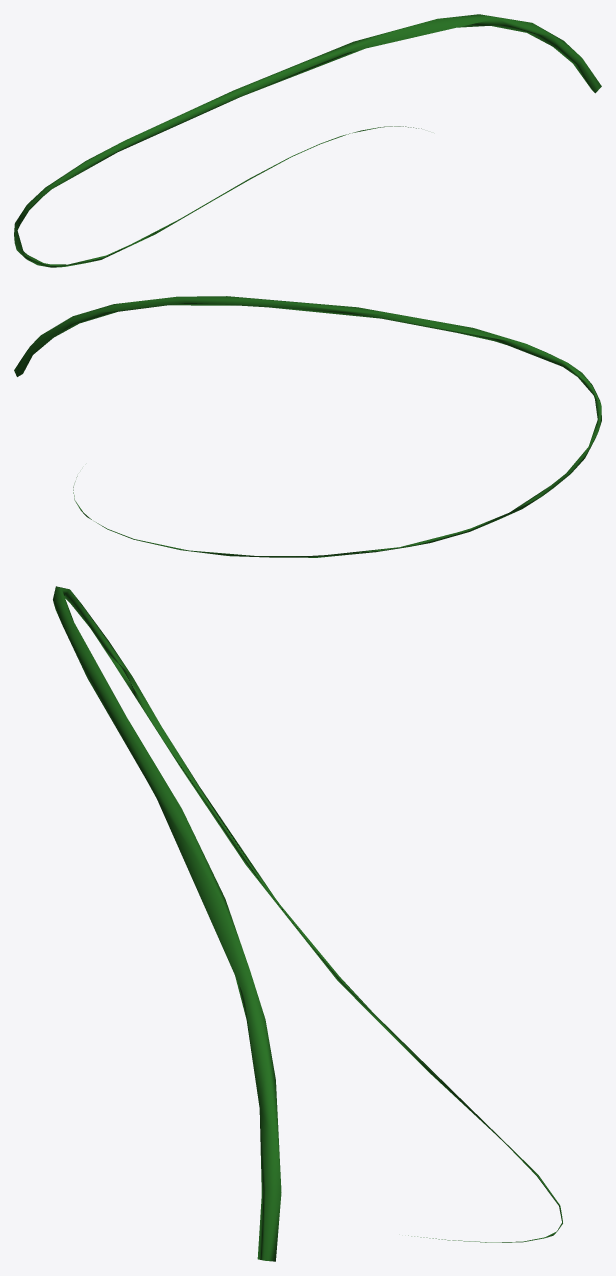
The model's file is Vines05.fbx.
3 views of the same model, one above another, from view 1: azimuth 30°, elevation 25°; view 2: azimuth 150°, elevation 25°; view 3: azimuth 270°, elevation 25° (orthographic). The views are drawn at different scales.
Parts seen in each view (by area): view 1: Vine.003; view 2: Vine.003; view 3: Vine.003.
Boxes of the visible parts, x1,y1,x2,y2 form: Vine.003: (14, 14, 601, 267); Vine.003: (14, 296, 601, 557); Vine.003: (53, 586, 562, 1261).
Bounding box in the file's own units: 753 × 248 × 305.
